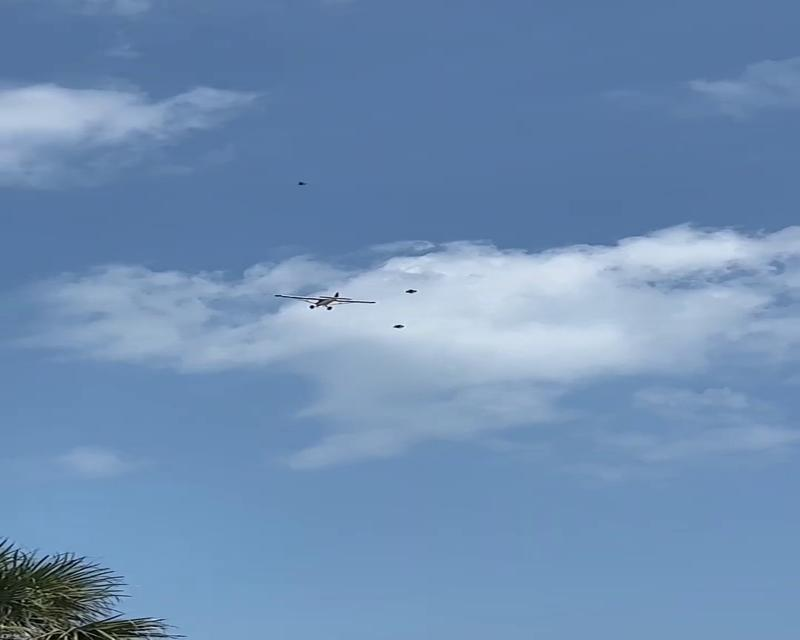UAV: (274, 287, 376, 312)
